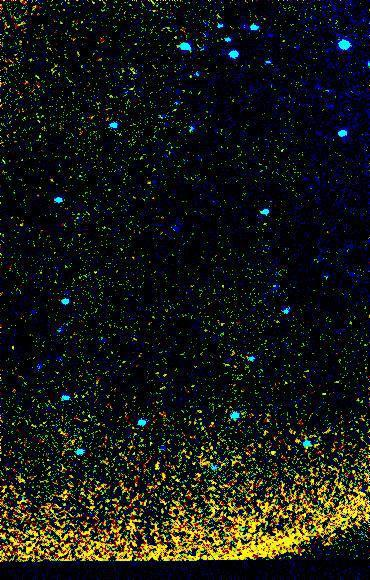star: (255, 434, 285, 464)
